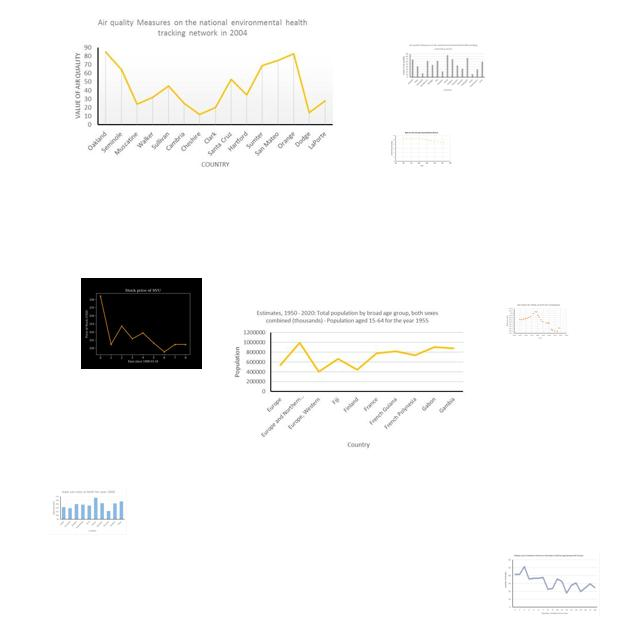Graph: (68, 14, 336, 171), (227, 305, 469, 449), (81, 278, 202, 369), (502, 553, 600, 617), (400, 43, 486, 93), (50, 488, 127, 535), (504, 302, 570, 341), (391, 131, 453, 167)
